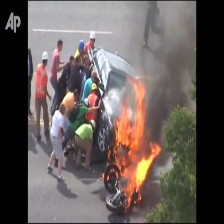fire_h: (106, 77, 160, 206)
fire_l: (106, 168, 119, 181), (106, 148, 111, 167), (101, 171, 105, 179)
